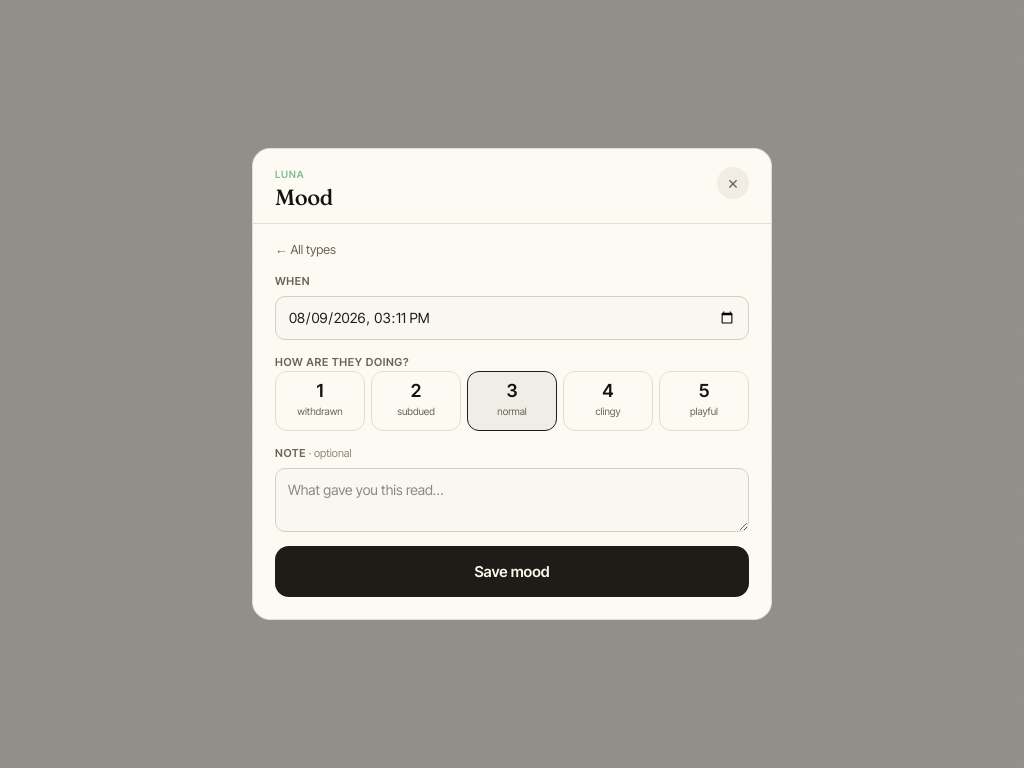
Scenario: QuickAddModal create › shows a save error when the API rejects
Click the button "Save mood".
click(512, 571)  # box [275, 546, 749, 597]
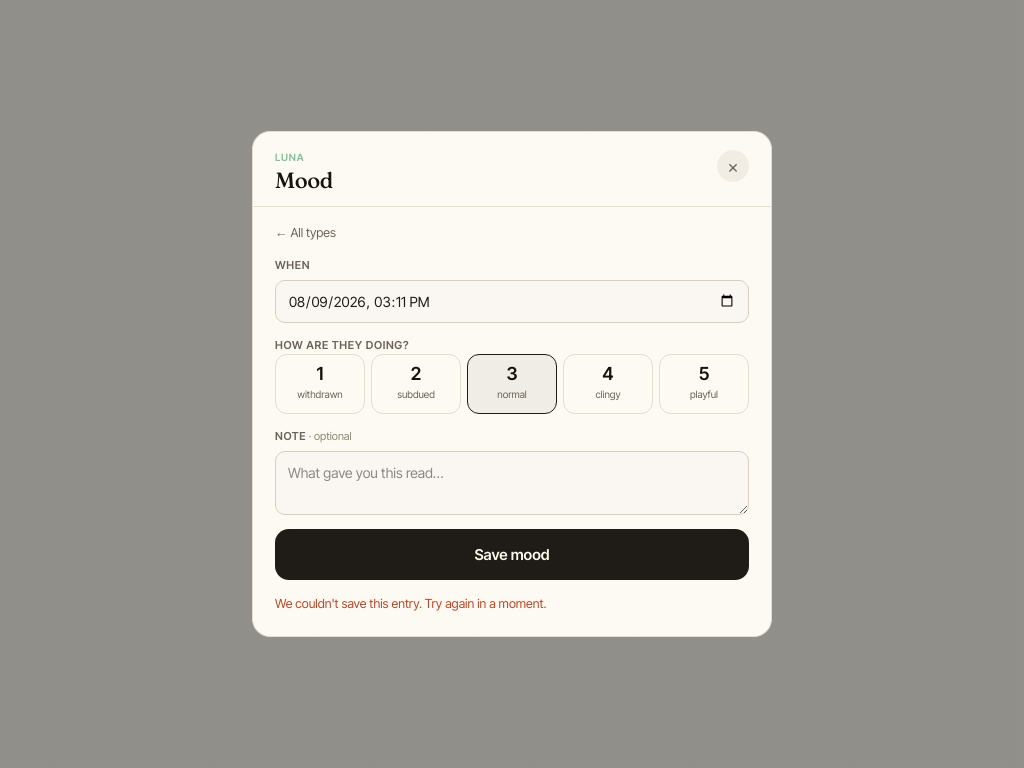
expect the message shows "couldn't save": met, box [275, 596, 546, 611]
